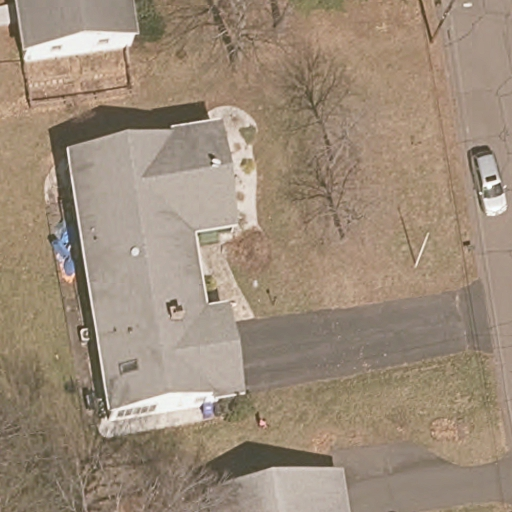DT: (428, 1, 457, 47)
